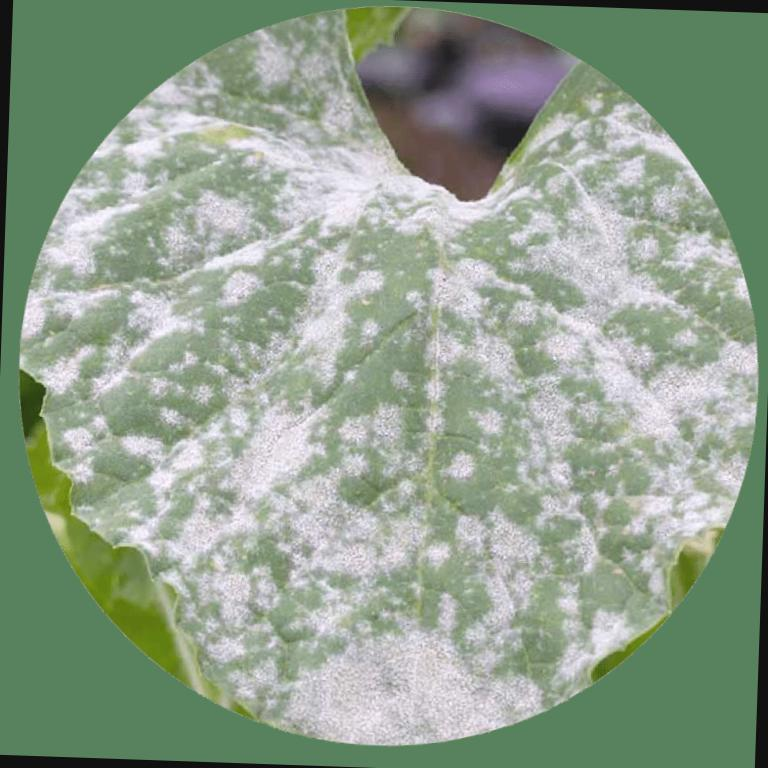powdery-mildew: (135, 194, 697, 628)
